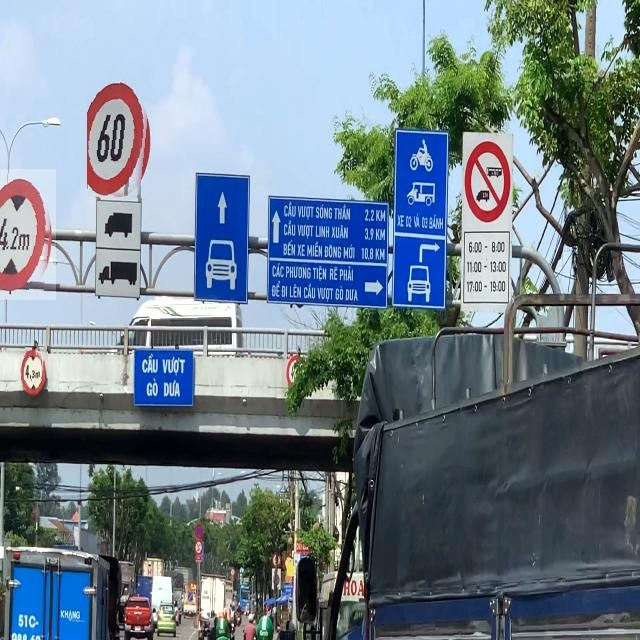bien_cam: (88, 78, 154, 198), (0, 169, 56, 300), (20, 346, 50, 408)
